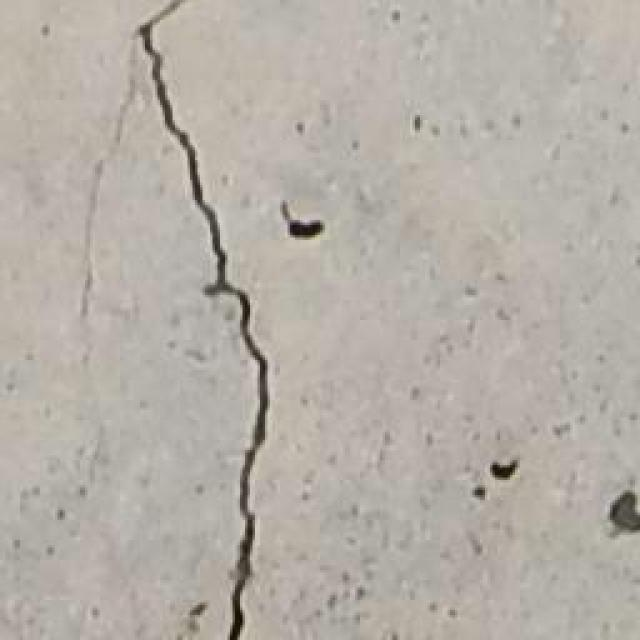concrete-crack: (72, 0, 268, 640), (205, 240, 270, 640), (128, 23, 215, 228), (80, 82, 132, 318), (280, 208, 320, 238), (612, 488, 638, 532)
